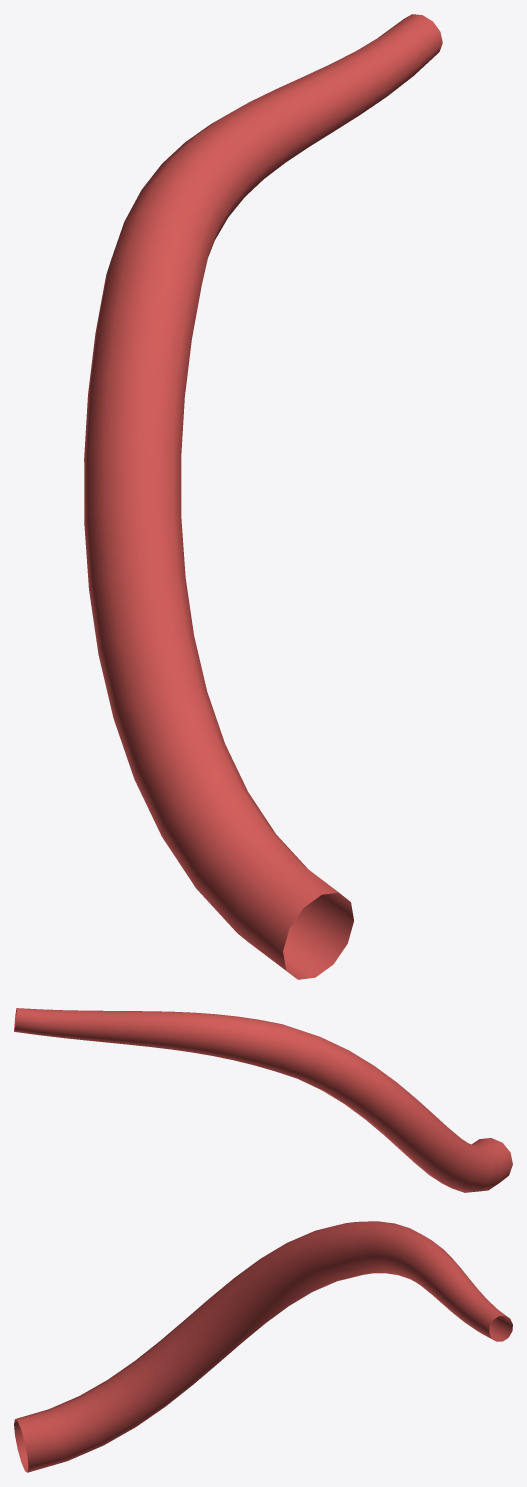
3 renders of one model, top to bottom at view 1: azimuth 30°, elevation 25°; view 2: azimuth 150°, elevation 25°; view 3: azimuth 270°, elevation 25°, orthographic. The views are drawn at different scales.
Parts seen in each view (by area): view 1: 右侧腓动脉跟支; view 2: 右侧腓动脉跟支; view 3: 右侧腓动脉跟支.
Part boxes in pixels (box(x1,y1,x2,y2)): 右侧腓动脉跟支: box(84, 14, 442, 979); 右侧腓动脉跟支: box(14, 1008, 512, 1192); 右侧腓动脉跟支: box(14, 1221, 512, 1472).
Bounding box in the file's own units: 0.0126 × 0.0107 × 0.0159.
